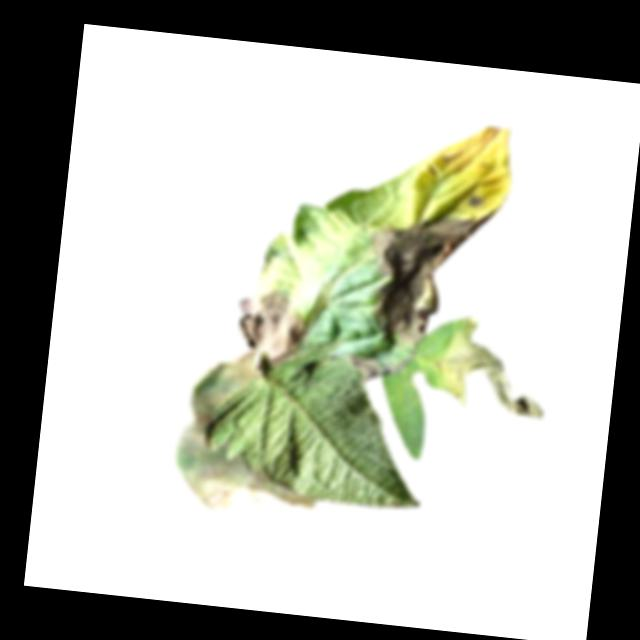Late_blight: (359, 205, 492, 355), (169, 421, 325, 520), (433, 312, 556, 420), (224, 283, 312, 372), (185, 356, 259, 426), (342, 350, 415, 386), (464, 194, 487, 209)
healthy: (199, 342, 436, 513)
